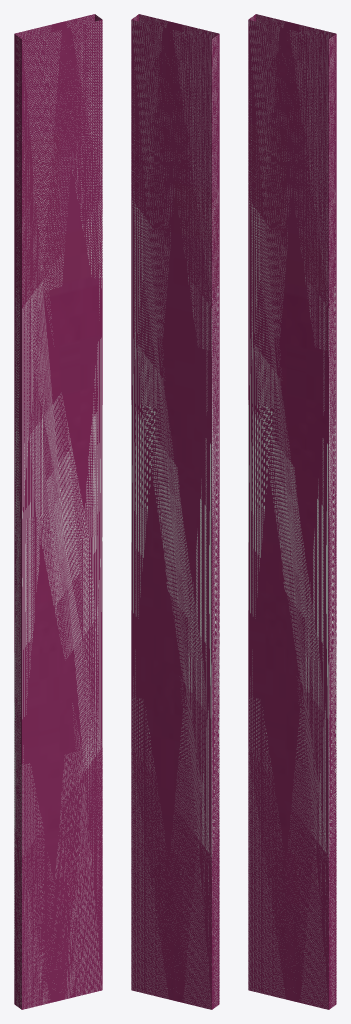
The model's file is original-17.obj.
3 renders of one model, left to right at view 1: azimuth 30°, elevation 25°; view 2: azimuth 150°, elevation 25°; view 3: azimuth 330°, elevation 25°, orthographic.
Visible parts, largest first — view 1: HRB_copy_001/HRB_1/mesh3/mesh3-geometry#mesh3-geometry; view 2: HRB_copy_001/HRB_1/mesh3/mesh3-geometry#mesh3-geometry; view 3: HRB_copy_001/HRB_1/mesh3/mesh3-geometry#mesh3-geometry.
Part boxes in pixels (x1,y1,x2,y2): HRB_copy_001/HRB_1/mesh3/mesh3-geometry#mesh3-geometry: [14, 14, 102, 1009]; HRB_copy_001/HRB_1/mesh3/mesh3-geometry#mesh3-geometry: [131, 14, 219, 1009]; HRB_copy_001/HRB_1/mesh3/mesh3-geometry#mesh3-geometry: [248, 14, 336, 1009].
Bounding box in the file's own units: 0.1292 × 1.49 × 0.0215.
